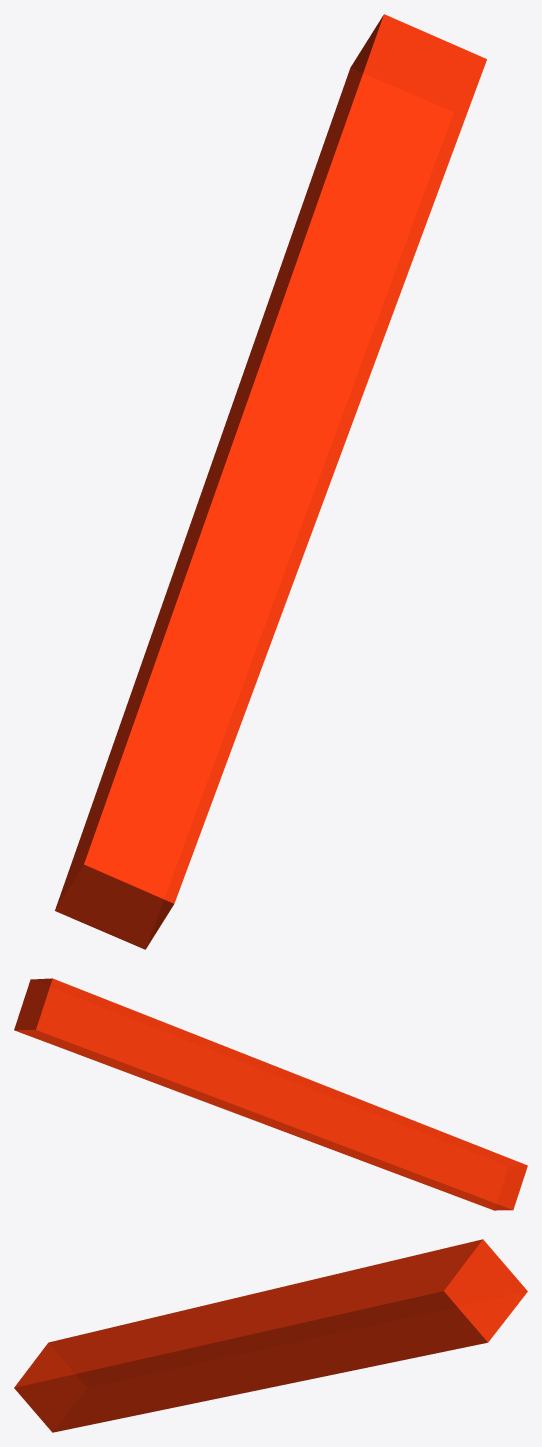
Rendered from Event_420107950_EBrechit_13.fbx.
3 views of the same model, one above another, from view 1: azimuth 30°, elevation 25°; view 2: azimuth 150°, elevation 25°; view 3: azimuth 270°, elevation 25° (orthographic). The views are drawn at different scales.
Parts seen in each view (by area): view 1: Model; view 2: Model; view 3: Model.
Part boxes in pixels (left/top/right/bottom): Model: left=55, top=14, right=486, bottom=949; Model: left=14, top=978, right=527, bottom=1210; Model: left=14, top=1239, right=527, bottom=1432.
Size of the model in its own units: 0.4759 by 0.3664 by 0.4535.
